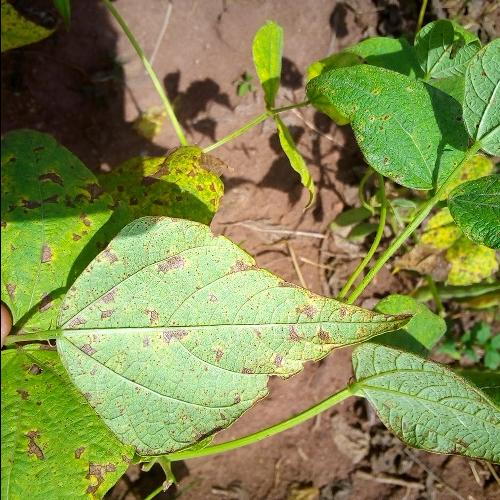hawar: (69, 196, 338, 456), (0, 147, 70, 292), (133, 150, 227, 216), (10, 404, 52, 473), (66, 455, 114, 497)
